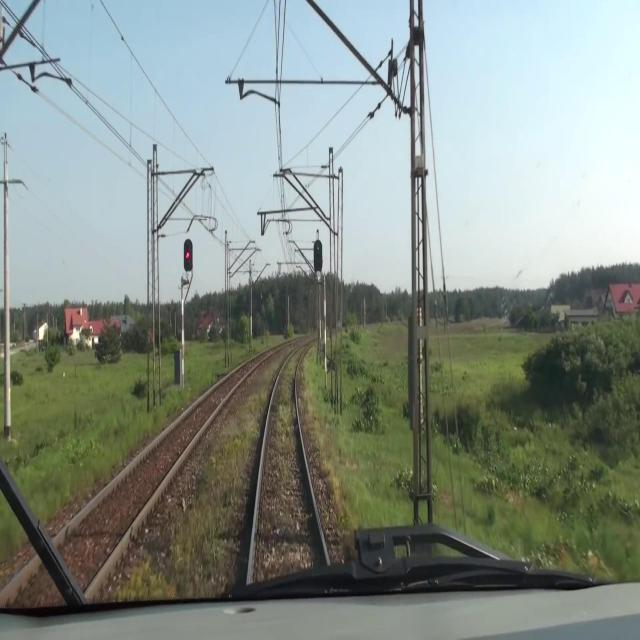rail-track: (0, 355, 263, 607), (251, 346, 326, 584)
